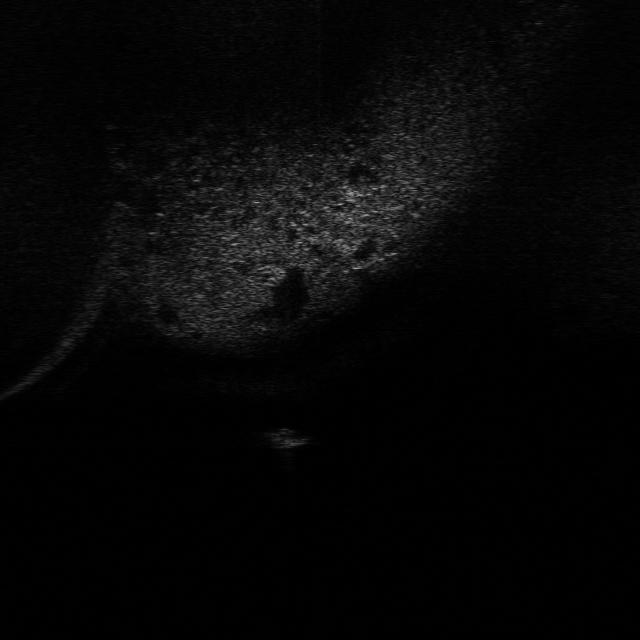cube: (258, 422, 312, 450)
